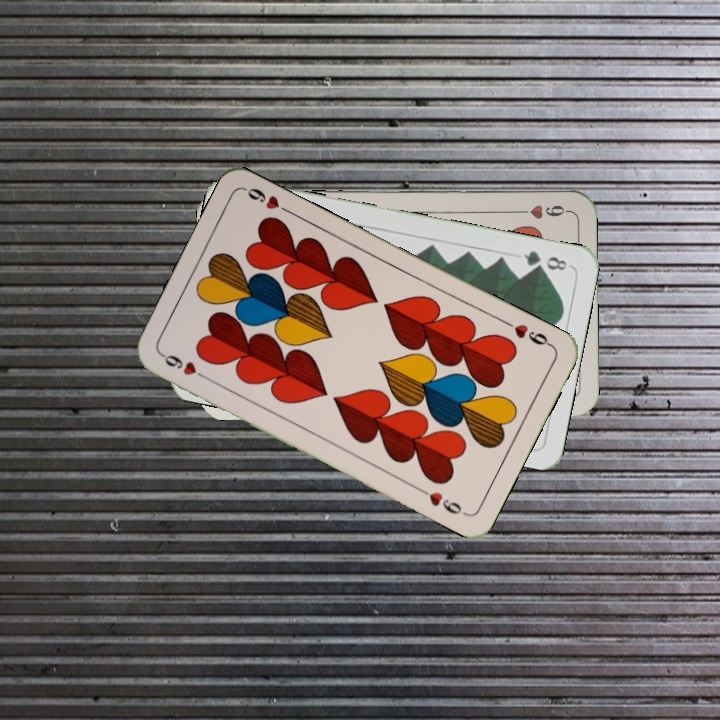G8: (519, 246, 570, 273)
H9: (158, 349, 213, 384), (500, 316, 555, 350), (511, 201, 570, 222)
